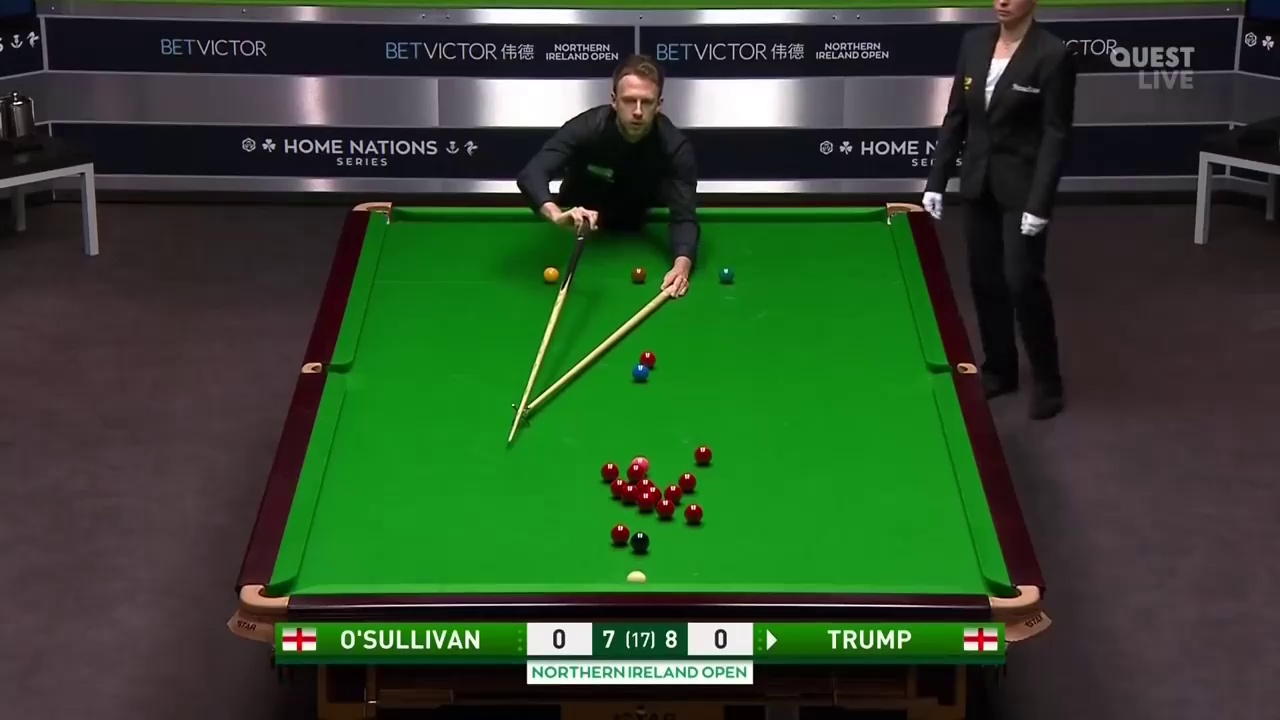black: (633, 535, 649, 552)
blue: (634, 362, 650, 383)
green: (717, 268, 735, 285)
red: (684, 503, 703, 524), (655, 498, 674, 518), (611, 526, 629, 546), (601, 463, 617, 483), (697, 446, 711, 466), (640, 494, 654, 513), (680, 475, 697, 490), (623, 486, 636, 503)
